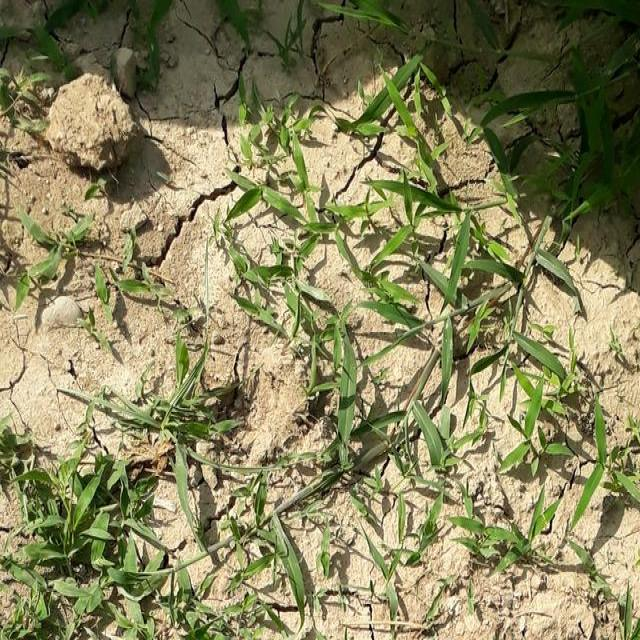weed: (415, 196, 640, 538), (219, 131, 396, 490), (5, 447, 223, 632)
